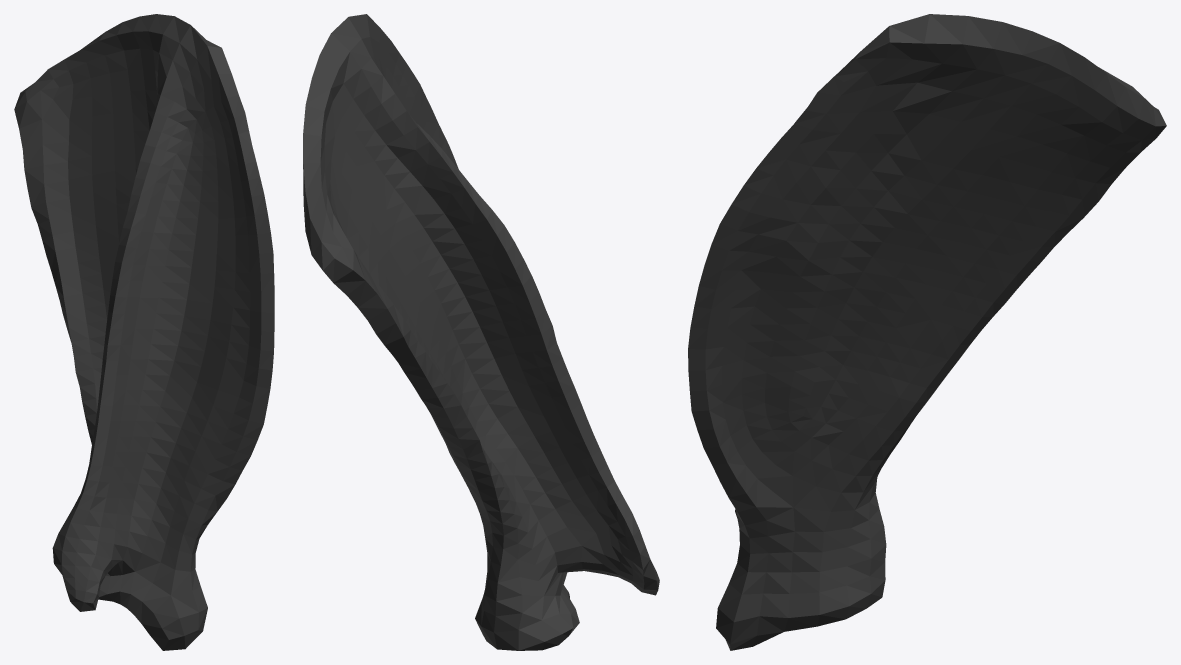
The model's file is Scapula_R.glb.
The picture shows the model from 3 angles, left to right: view 1: azimuth 30°, elevation 25°; view 2: azimuth 150°, elevation 25°; view 3: azimuth 270°, elevation 25°; orthographic projection. The views are drawn at different scales.
Visible parts, largest first — view 1: Scapula_R; view 2: Scapula_R; view 3: Scapula_R.
Boxes of the visible parts, x1,y1,x2,y2 form: Scapula_R: (14, 14, 274, 650); Scapula_R: (303, 14, 659, 650); Scapula_R: (688, 14, 1166, 650).
Size of the model in its own units: 3.36 by 8.5 by 5.35.
Materials: 1 (1 with a texture image).
